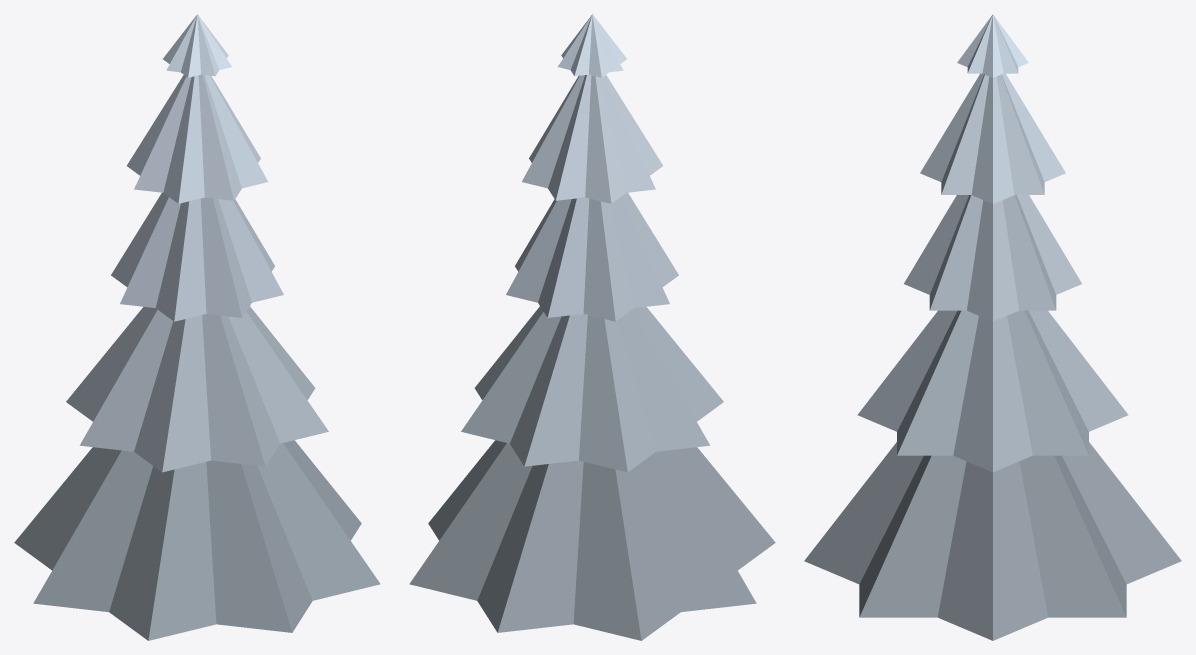
File: TreeSnowC.fbx
3 renders of one model, left to right at view 1: azimuth 30°, elevation 25°; view 2: azimuth 150°, elevation 25°; view 3: azimuth 270°, elevation 25°, orthographic.
Parts seen in each view (by area): view 1: TreeSnowC; view 2: TreeSnowC; view 3: TreeSnowC.
Boxes of the visible parts, box(x1,y1,x2,y2) form: TreeSnowC: box(14, 14, 380, 640); TreeSnowC: box(409, 14, 775, 640); TreeSnowC: box(804, 14, 1181, 640).
Bounding box in the file's own units: 326 × 521 × 326.
